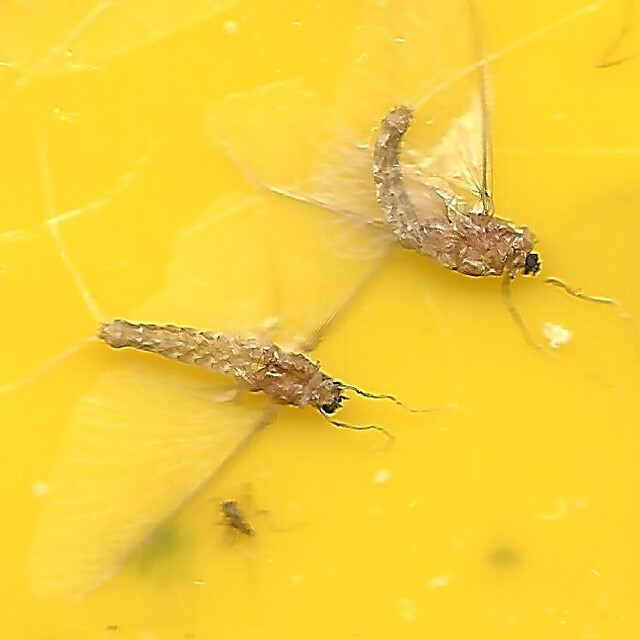Ephemeroptera: (369, 101, 545, 284), (95, 318, 350, 421)
Nematocera: (223, 497, 254, 539)
